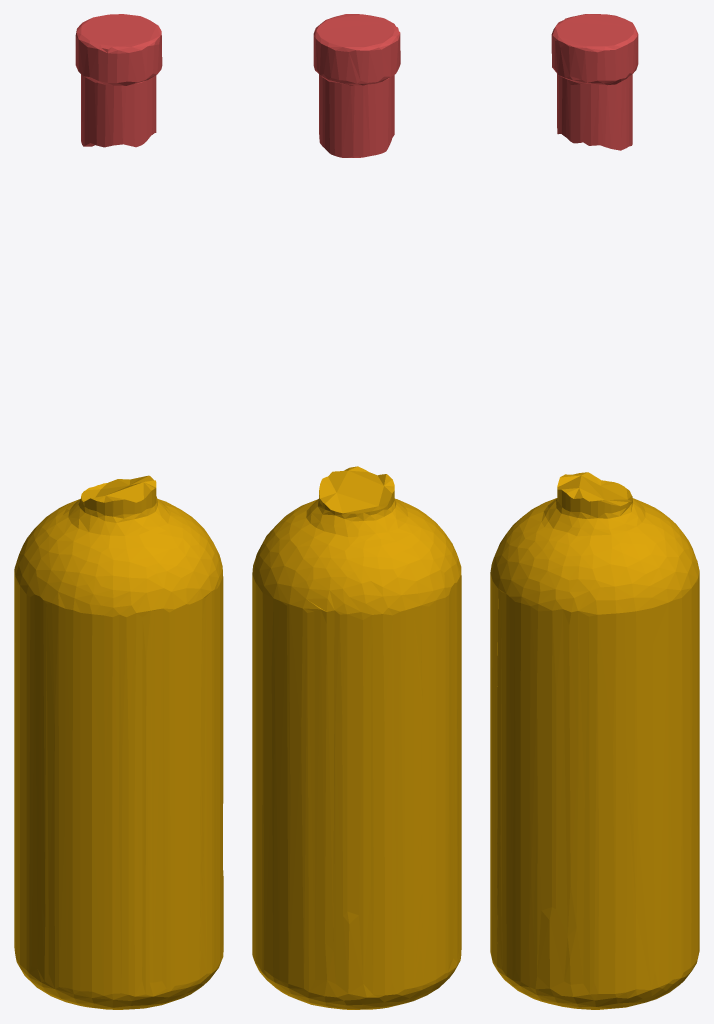
The model's file is fractured_64_2pcs_transformed.glb.
3 renders of one model, left to right at view 1: azimuth 30°, elevation 25°; view 2: azimuth 150°, elevation 25°; view 3: azimuth 270°, elevation 25°, orthographic.
Parts seen in each view (by area): view 1: piece_0.obj, piece_1.obj; view 2: piece_0.obj, piece_1.obj; view 3: piece_0.obj, piece_1.obj.
Boxes of the visible parts, x1,y1,x2,y2 form: piece_0.obj: (14, 475, 223, 1009); piece_1.obj: (75, 14, 162, 147); piece_0.obj: (252, 466, 461, 1009); piece_1.obj: (313, 14, 400, 157); piece_0.obj: (490, 472, 699, 1009); piece_1.obj: (551, 14, 638, 150).
Size of the model in its own units: 0.3203 by 1.6 by 0.3202.
